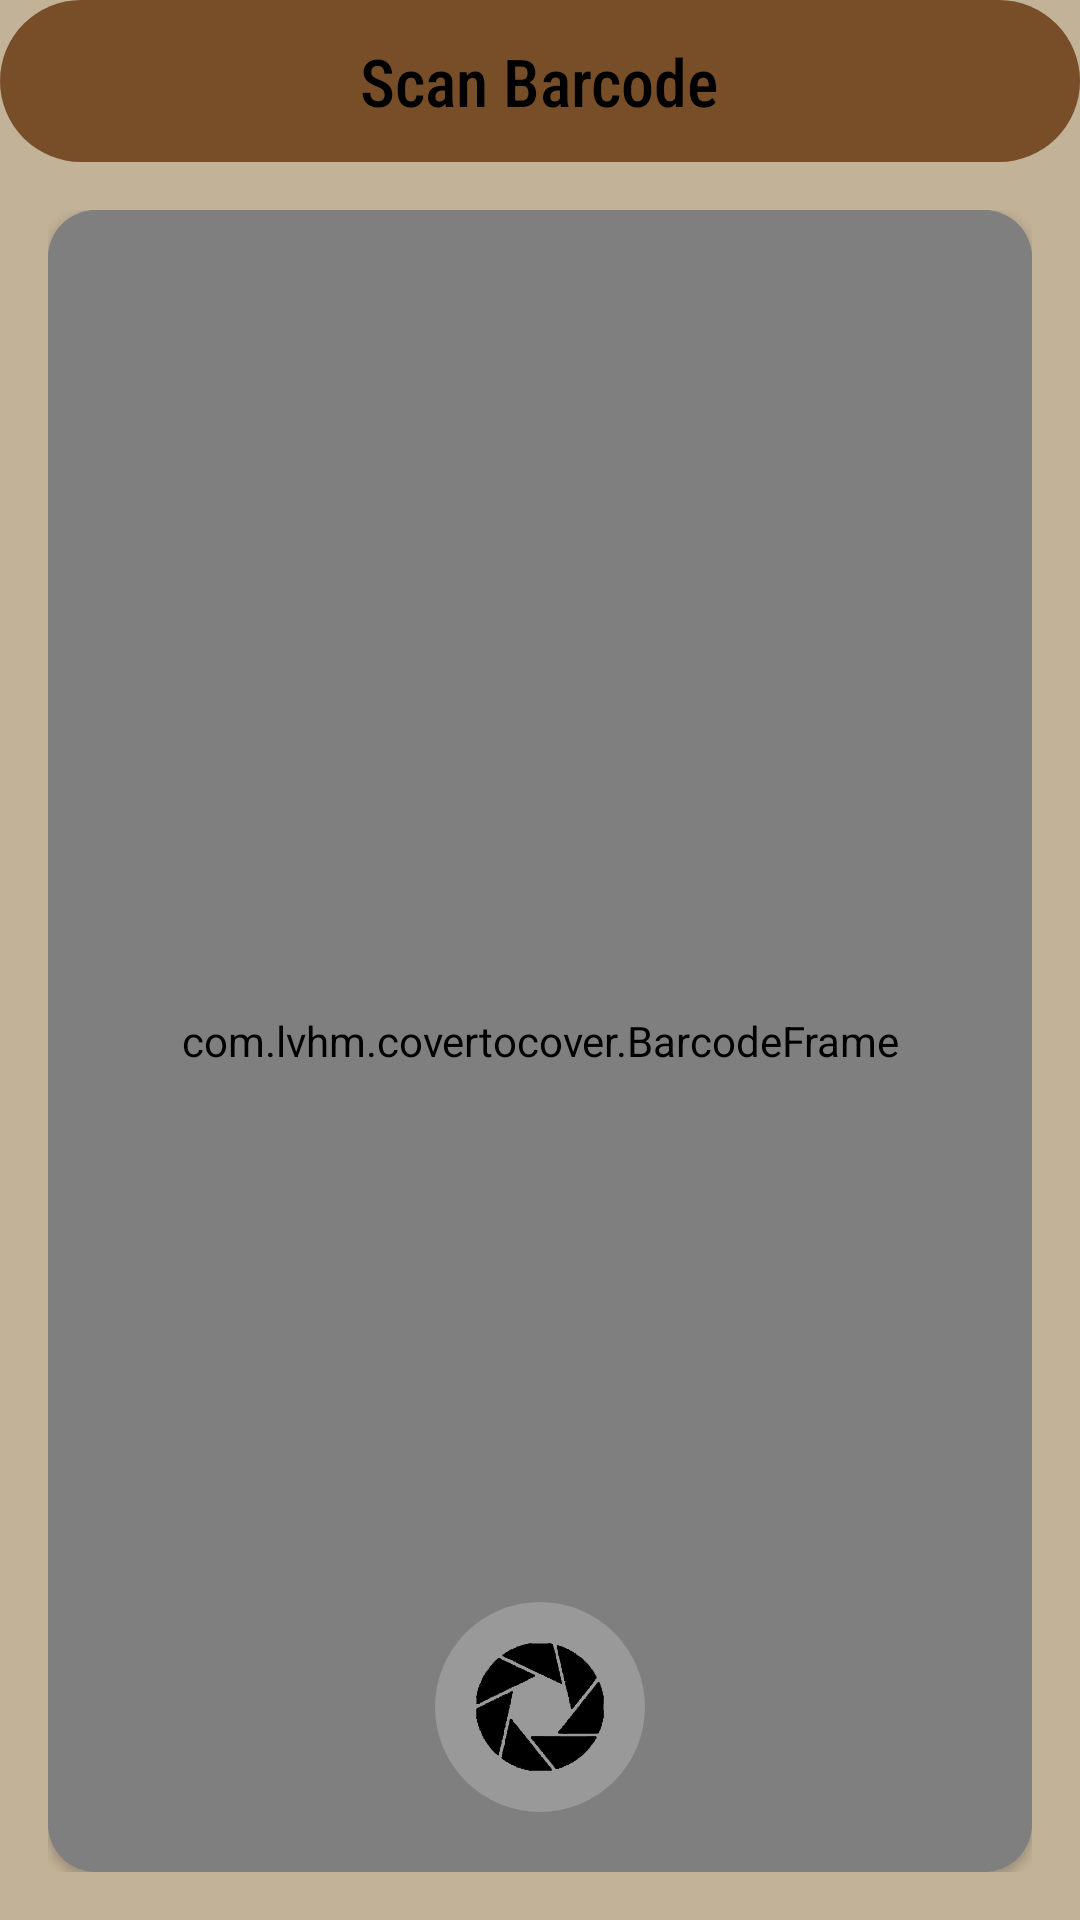

Screen size 1080 x 1920. Icon name, then its center in pixels as (x,y):
shutter ui: (540,1707)
